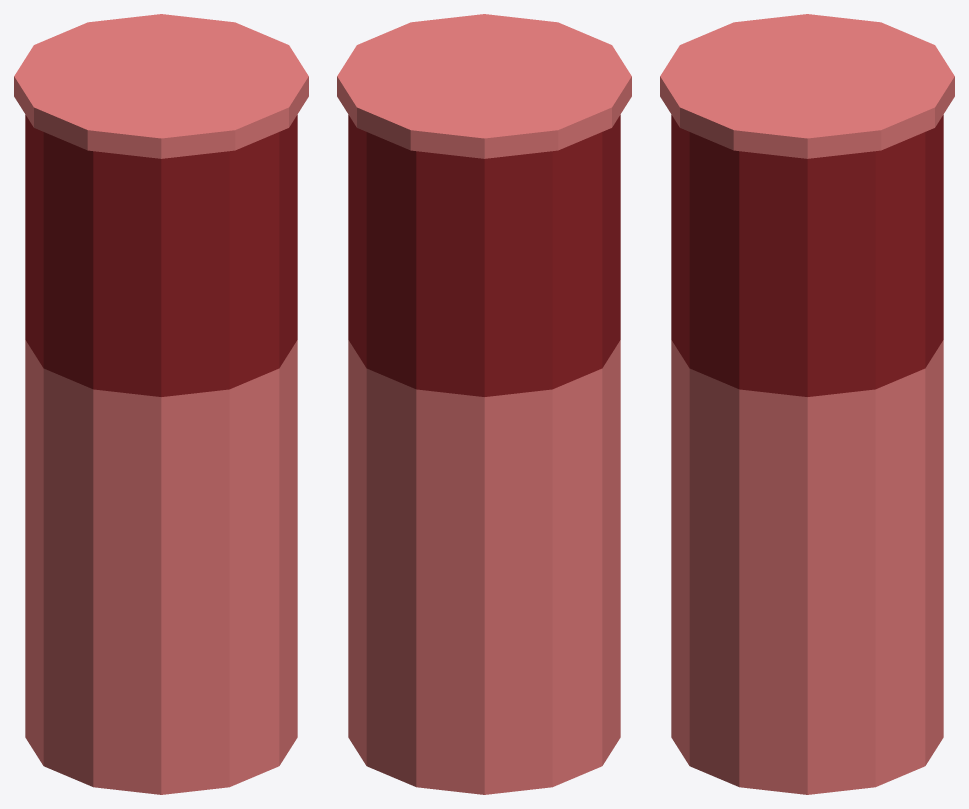
File: ürün89.fbx
3 views of the same model, side by side, from view 1: azimuth 30°, elevation 25°; view 2: azimuth 150°, elevation 25°; view 3: azimuth 270°, elevation 25° (orthographic).
Visible parts, largest first — view 1: Ürün90; view 2: Ürün90; view 3: Ürün90.
Boxes of the visible parts, x1,y1,x2,y2 form: Ürün90: [14, 14, 308, 794]; Ürün90: [337, 14, 631, 794]; Ürün90: [660, 14, 954, 794].
Bounding box in the file's own units: 11.6 × 28.73 × 11.6.
